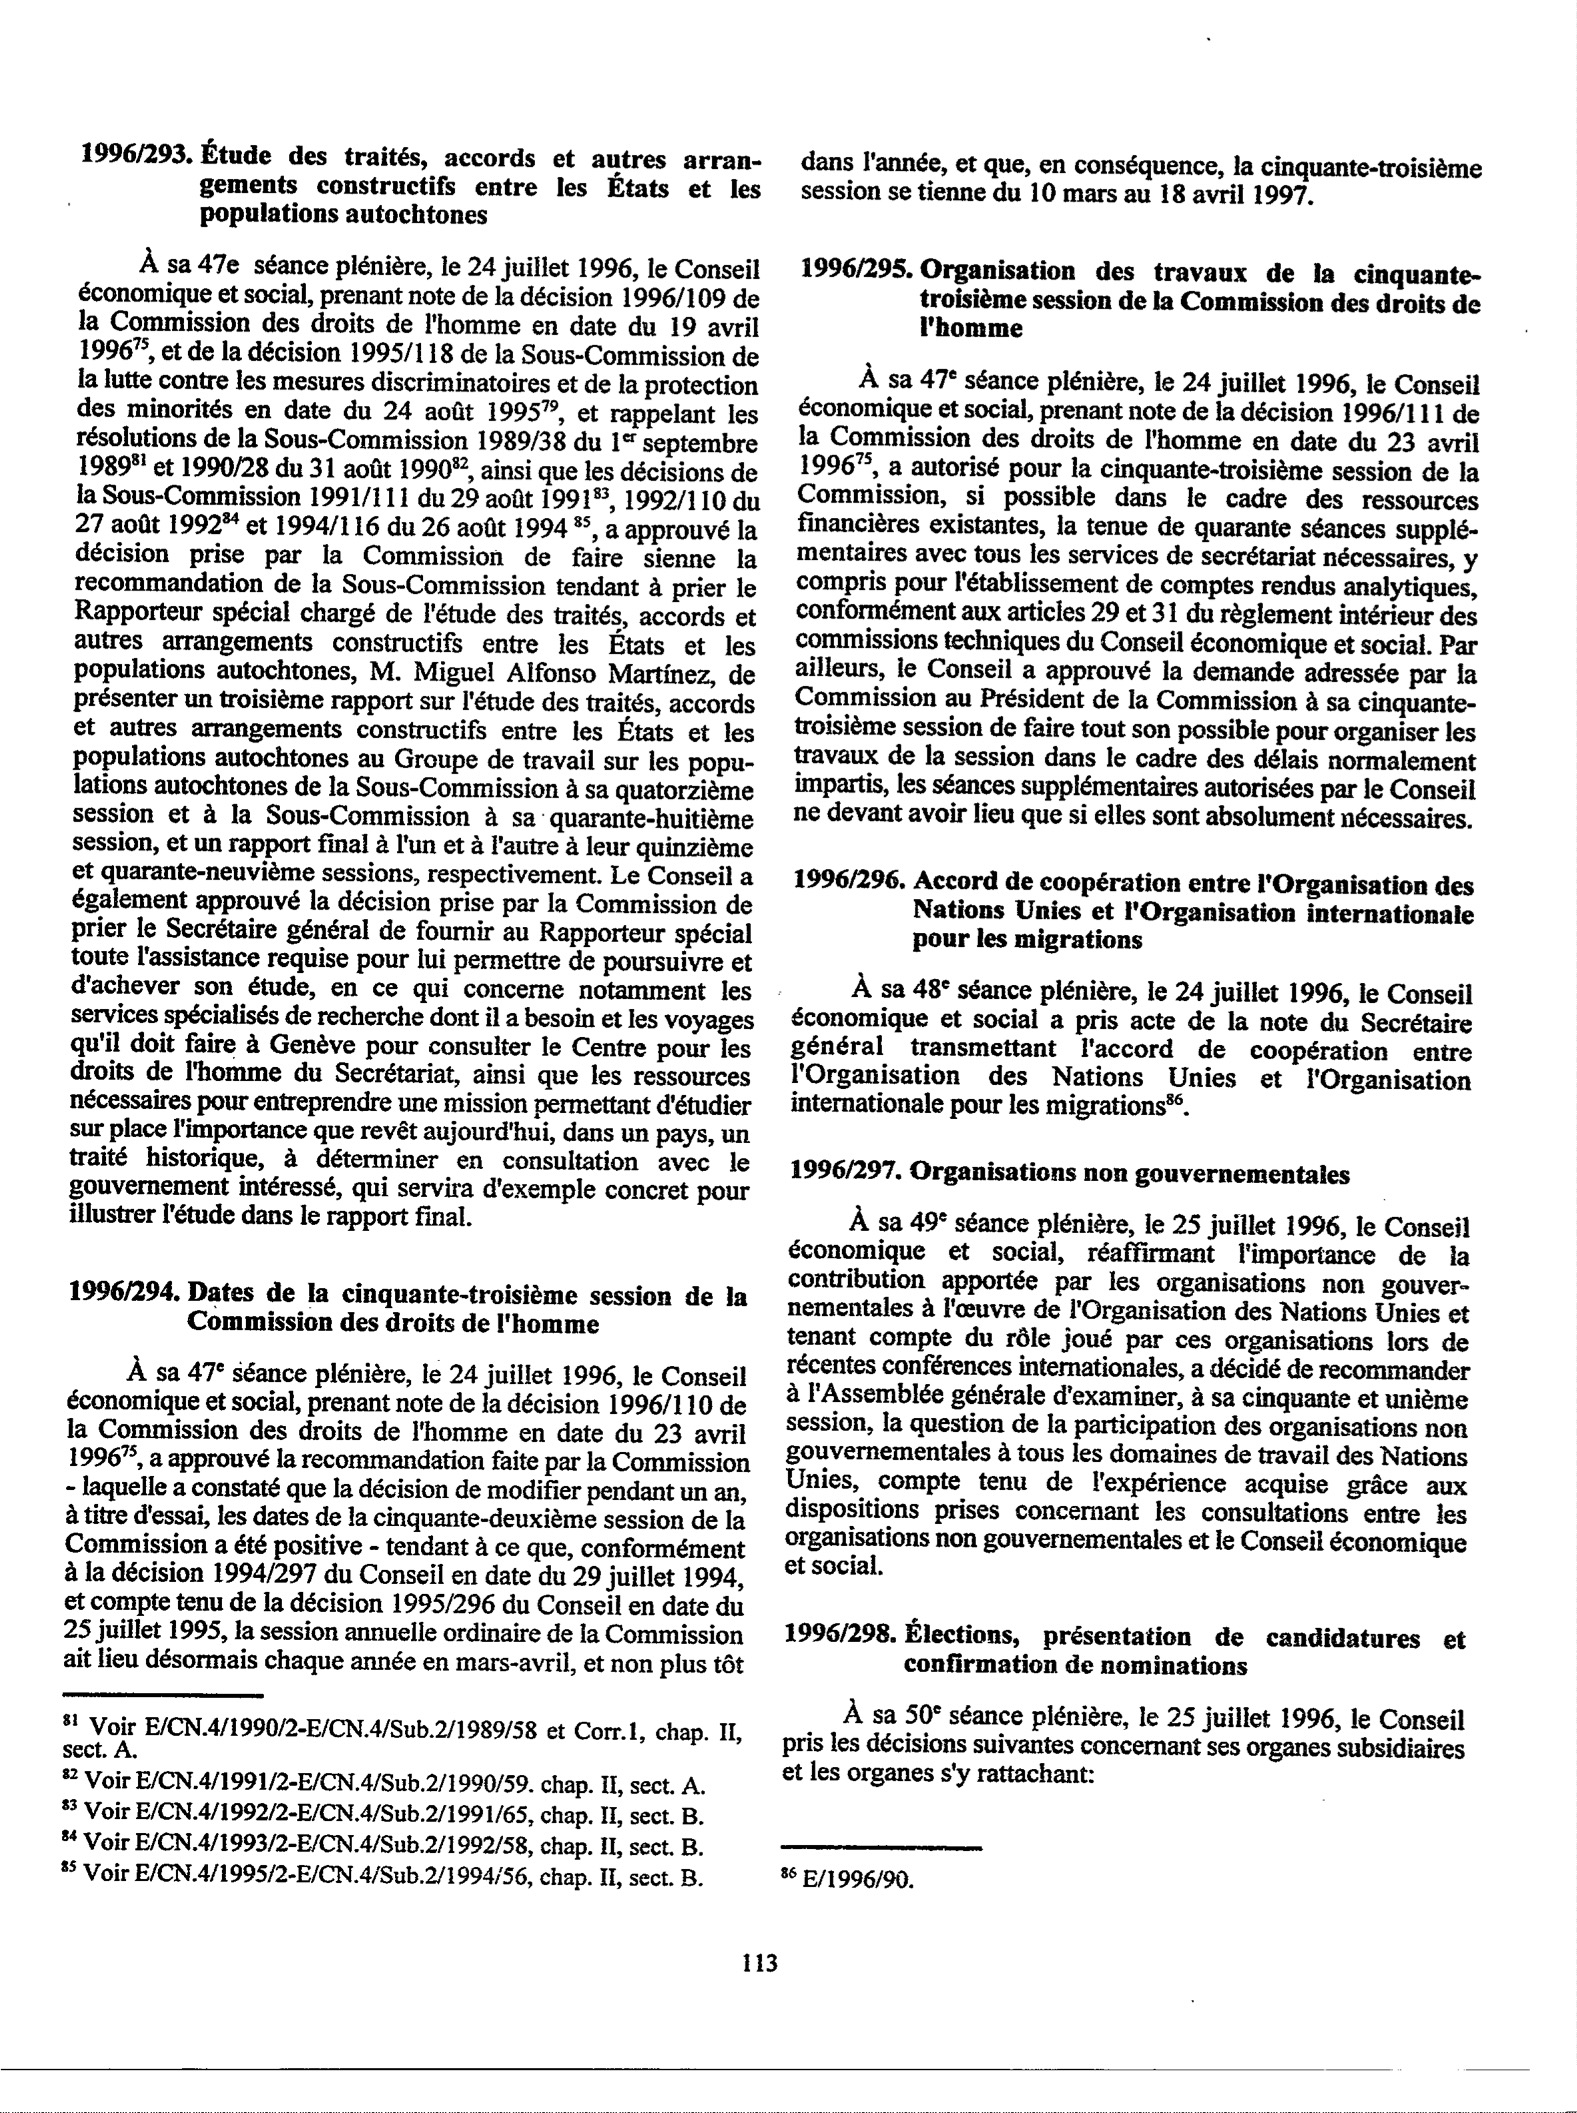MainZone-Continued: (793, 146, 1490, 216)
MainZone-Head: (76, 132, 770, 231), (797, 247, 1487, 345), (788, 862, 1481, 958), (65, 1272, 752, 1341), (779, 1615, 1475, 1683), (786, 1152, 1360, 1192)
MainZone-P: (67, 240, 762, 1234), (789, 360, 1485, 835), (781, 1204, 1477, 1584), (58, 1354, 752, 1680), (785, 970, 1478, 1125), (773, 1695, 1468, 1794)
MarginTextZone-Notes: (54, 1707, 746, 1766), (52, 1858, 713, 1900), (54, 1793, 723, 1827), (53, 1825, 714, 1859), (54, 1764, 732, 1795), (776, 1857, 921, 1899)
NumberingZone: (735, 1945, 787, 1985)
